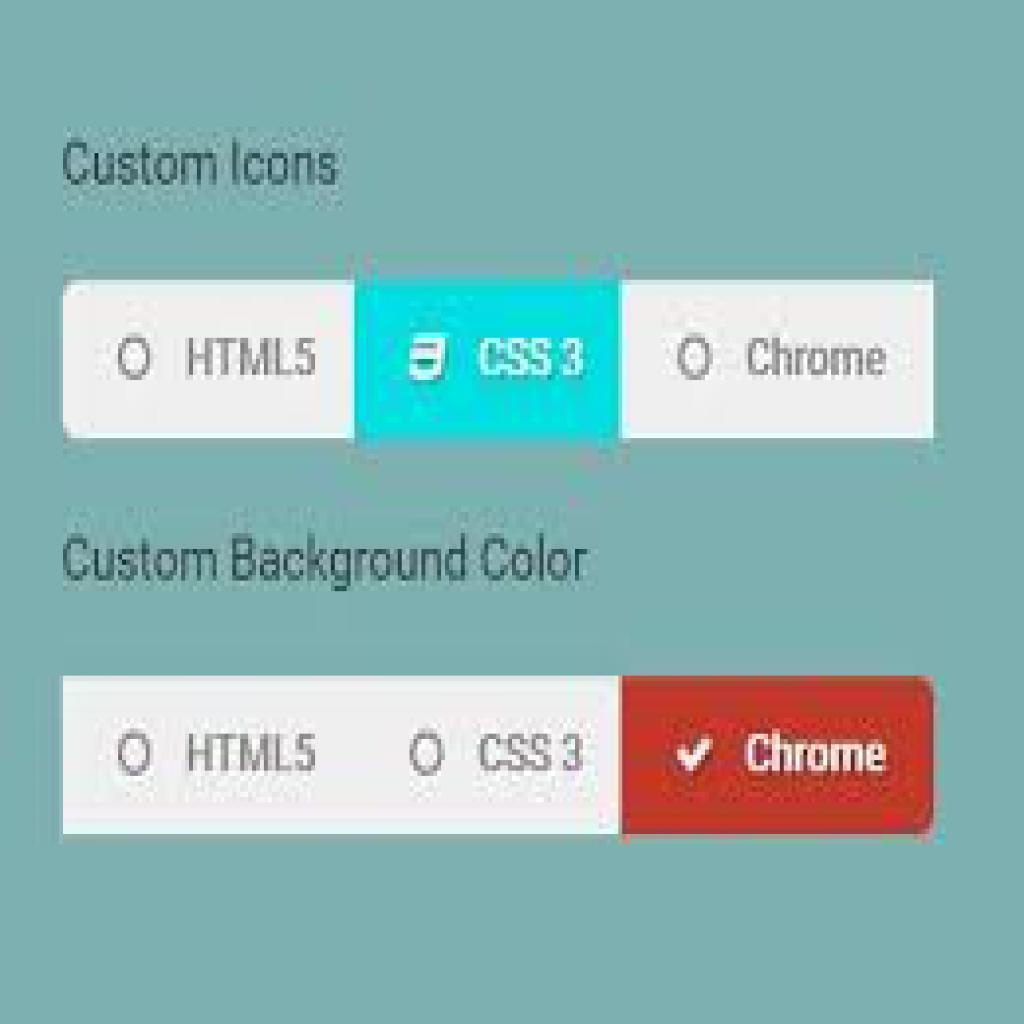radio: (404, 727, 446, 775), (674, 330, 712, 382), (119, 725, 155, 775), (114, 332, 152, 379)
